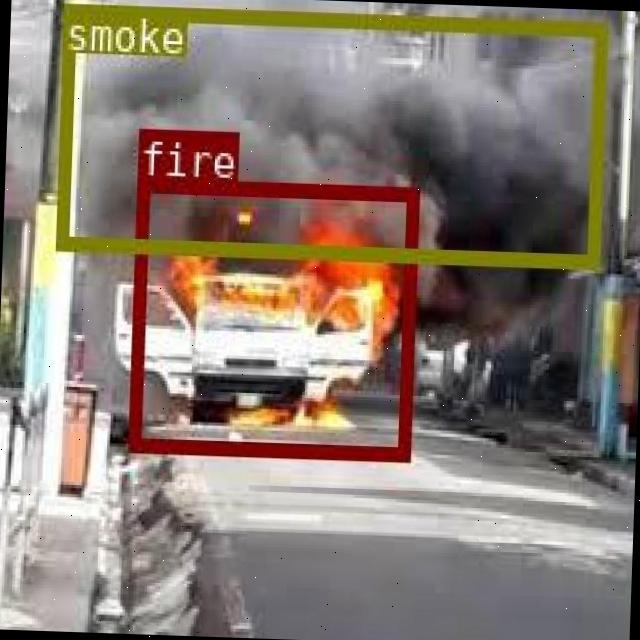fire: (127, 175, 416, 458)
smoke: (54, 2, 606, 266)
